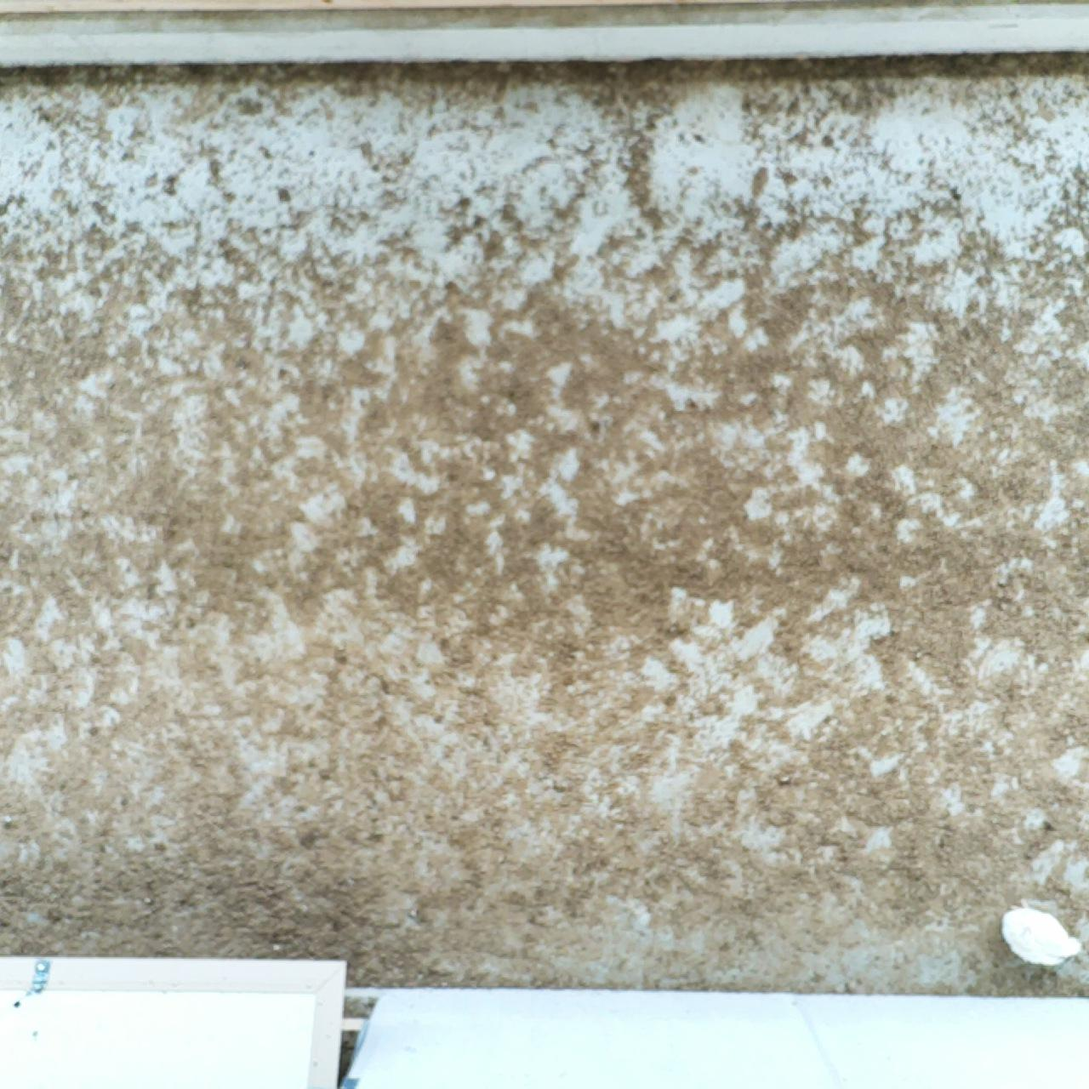chicken: (997, 898, 1088, 979)
